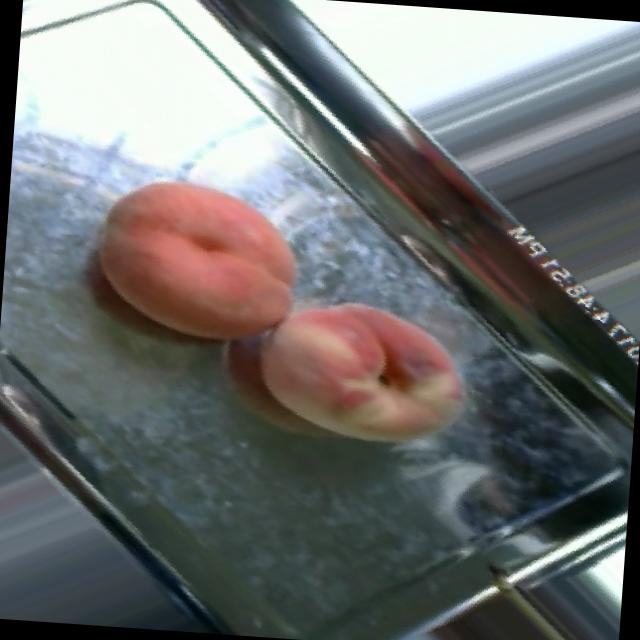Fruit: (68, 144, 328, 366), (235, 272, 489, 470)
